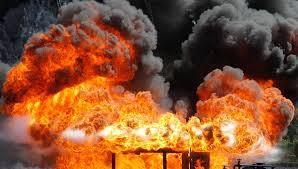fire: (36, 101, 287, 168)
